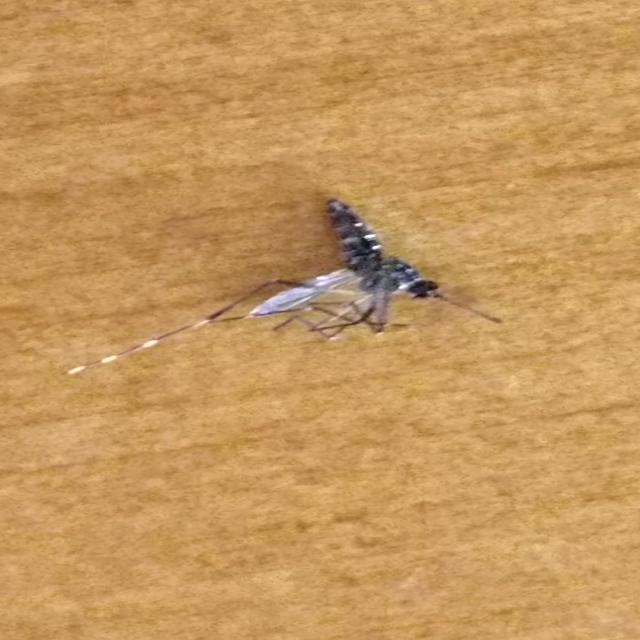albopictus: (65, 184, 510, 390)
